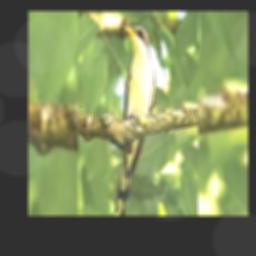Cuckoo: (114, 25, 155, 216)
